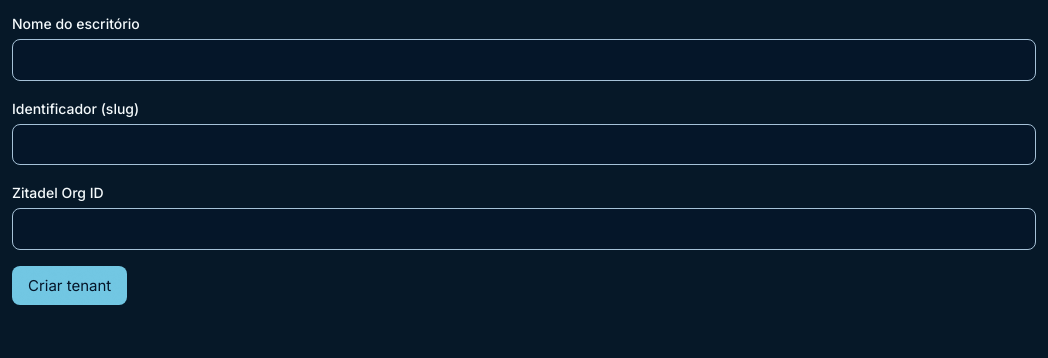
CreateTenantForm › deve mostrar mensagem de erro quando API falhar
This screenshot has width=1048, height=358.
Type "Studio" into the field labelled "Nome do escritório" at (524, 60), box [12,39,1036,81]
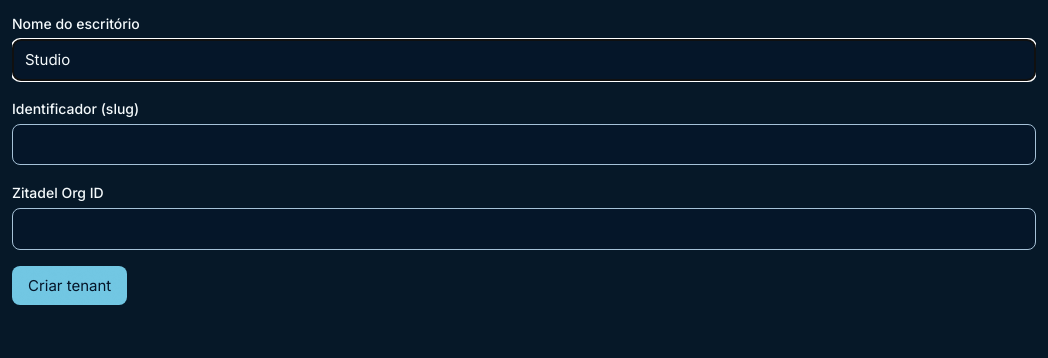
Type "duplicado" into the field labelled "Identificador (slug)" at (524, 144), box [12,124,1036,165]
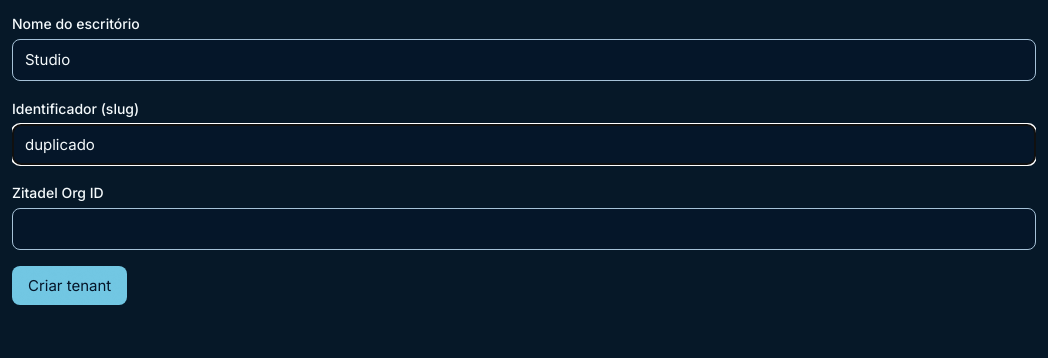
Type "org-1" into the field labelled "Zitadel Org ID" at (524, 229), box [12,208,1036,250]
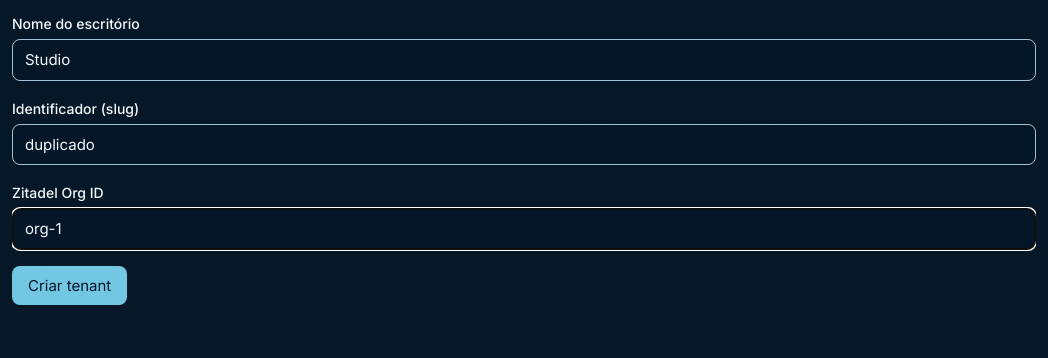
Click the button "Criar tenant" at (70, 285), box [12,266,127,305]
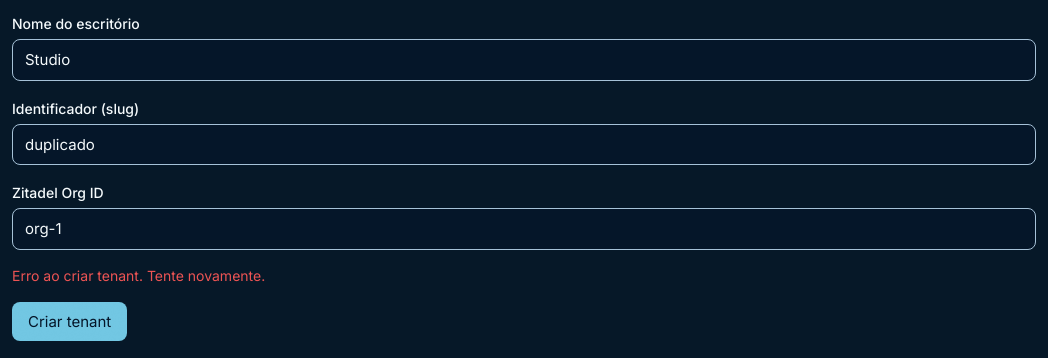
Now the text "Erro ao criar tenant. Tente novamente." is shown, box [12,266,265,284]
